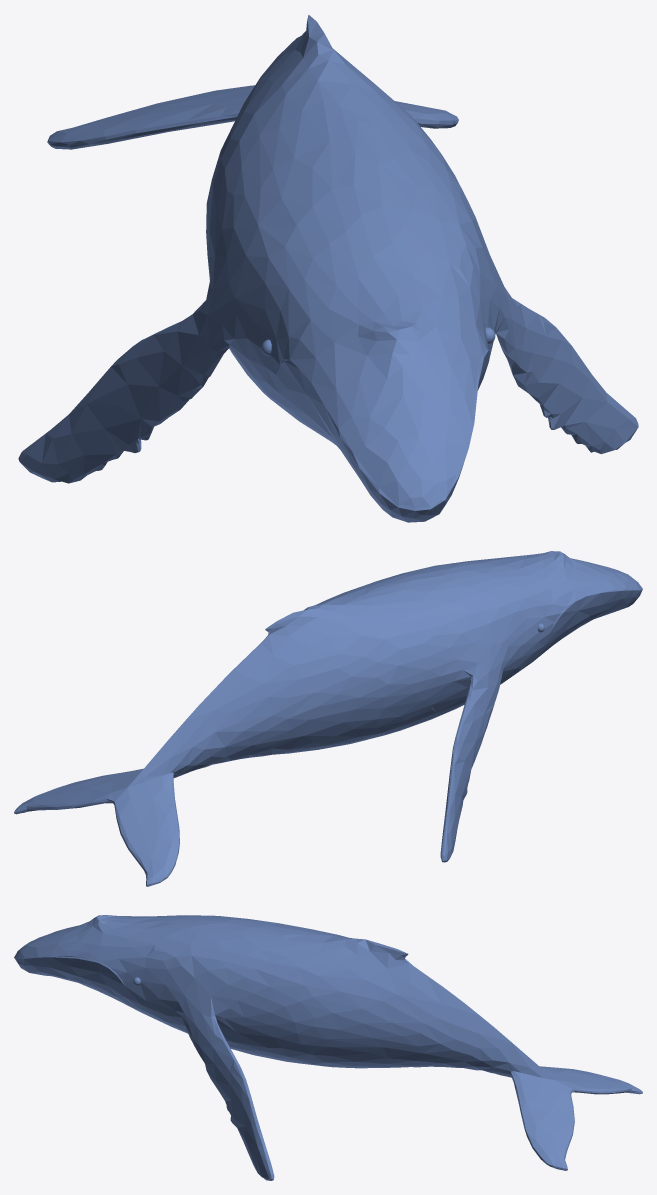
File: Whale (3).glb
3 renders of one model, top to bottom at view 1: azimuth 30°, elevation 25°; view 2: azimuth 150°, elevation 25°; view 3: azimuth 270°, elevation 25°, orthographic. The views are drawn at different scales.
Parts seen in each view (by area): view 1: Mesh_Mesh_head_geo.001_lambert2SG.001; view 2: Mesh_Mesh_head_geo.001_lambert2SG.001; view 3: Mesh_Mesh_head_geo.001_lambert2SG.001.
Boxes of the visible parts, left/top/right/bottom form: Mesh_Mesh_head_geo.001_lambert2SG.001: left=18, top=15, right=638, bottom=522; Mesh_Mesh_head_geo.001_lambert2SG.001: left=14, top=551, right=642, bottom=886; Mesh_Mesh_head_geo.001_lambert2SG.001: left=14, top=915, right=642, bottom=1180.
Size of the model in its own units: 35.78 by 21.51 by 64.47.
